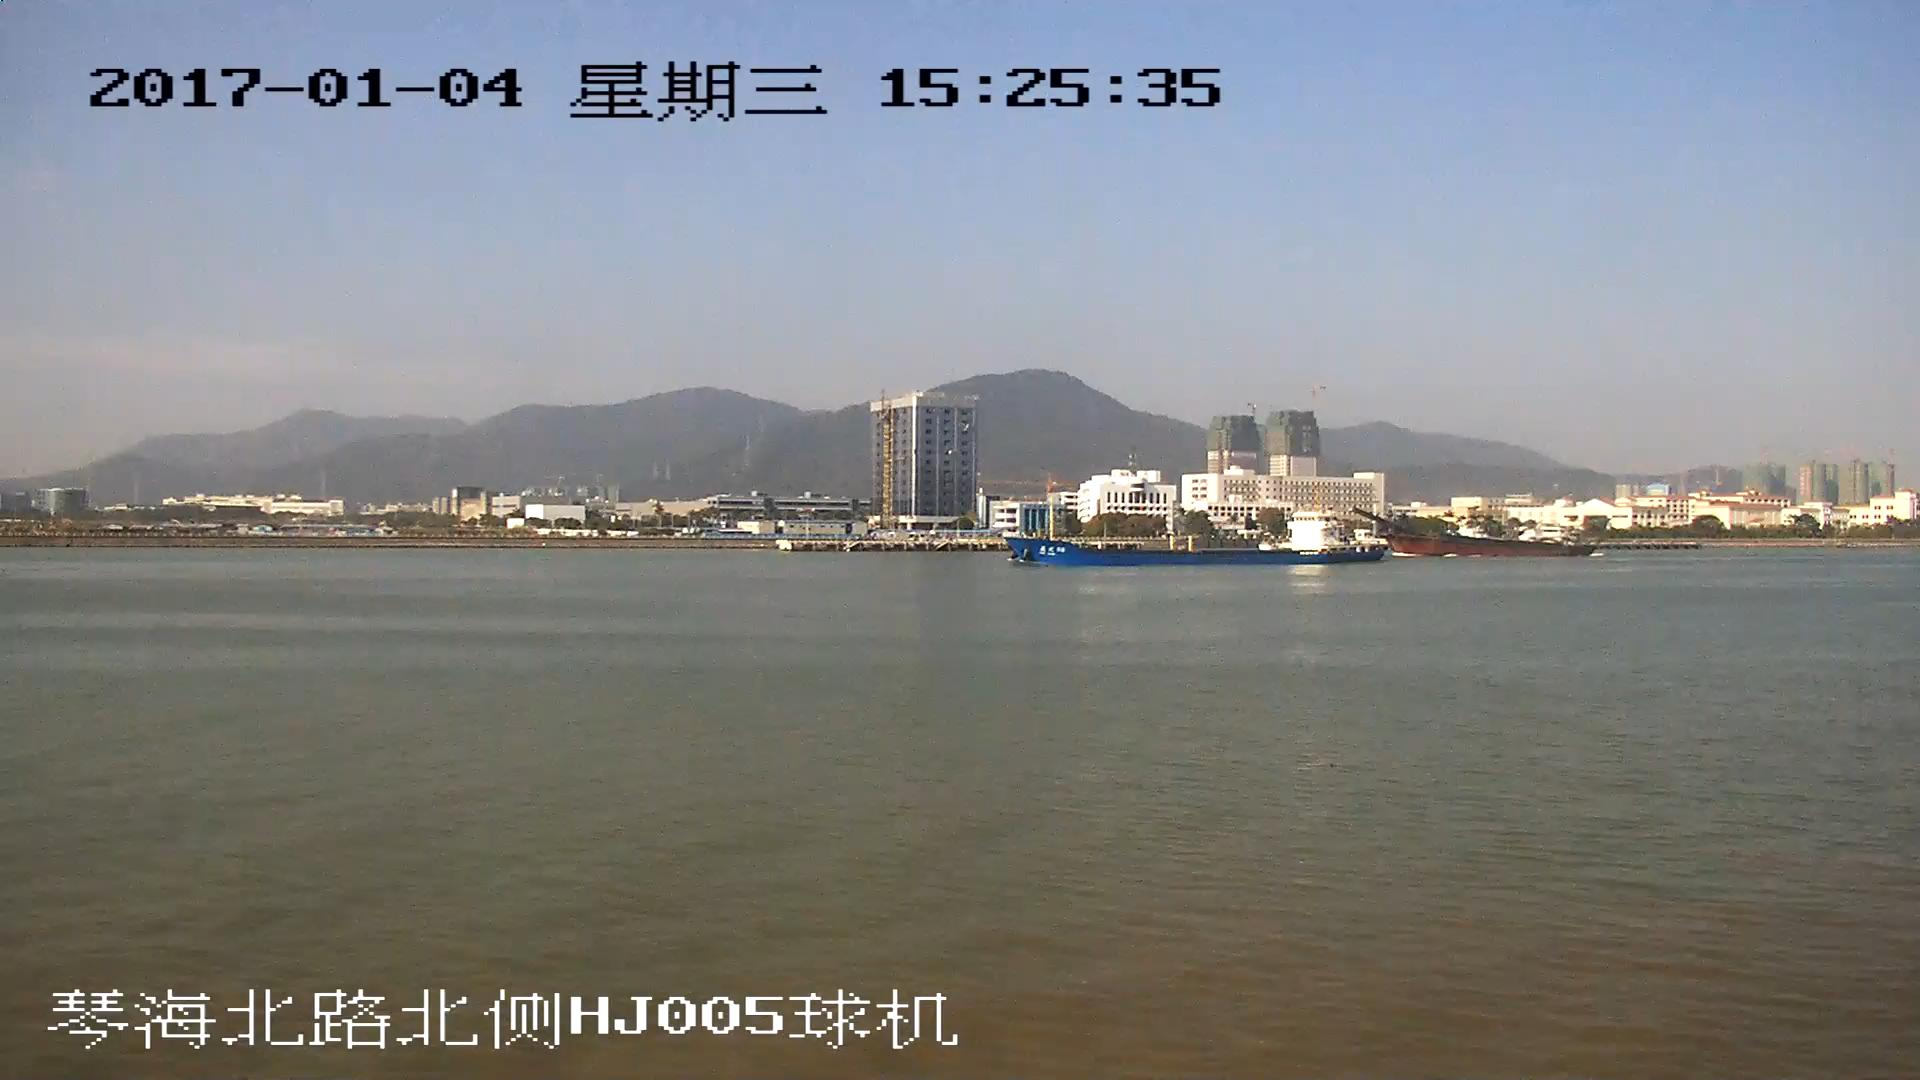bulk cargo carrier: (1358, 504, 1595, 558)
general cargo ship: (1010, 501, 1360, 563)
